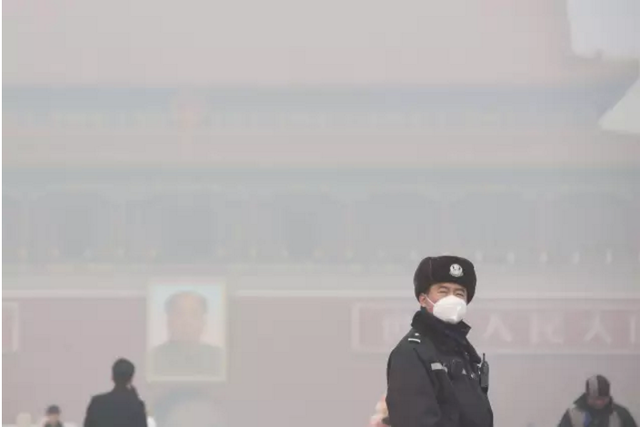person: (385, 255, 494, 427), (83, 358, 147, 427), (557, 374, 640, 427), (40, 405, 65, 427)
